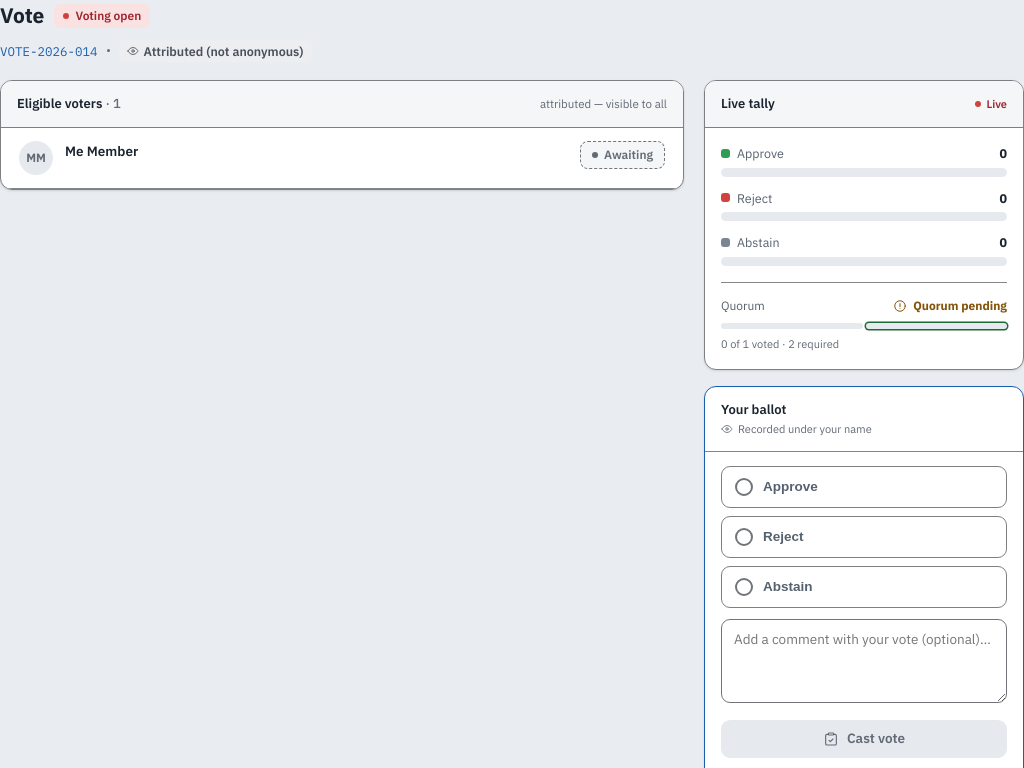
Test case: VotePage (P9b) › open: cancelling the confirm dialog casts nothing
Click the radio button labelled "Approve".
click(790, 486)  # box [721, 466, 1007, 508]
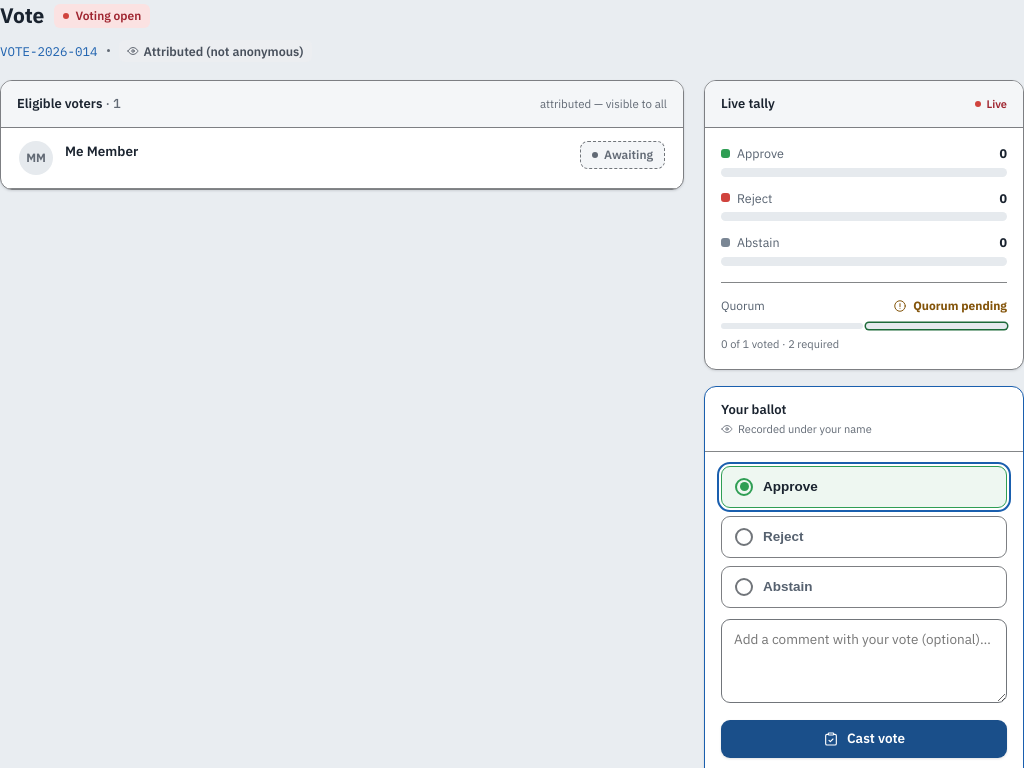
Click the button "Cast vote".
click(864, 738)  # box [721, 720, 1007, 758]
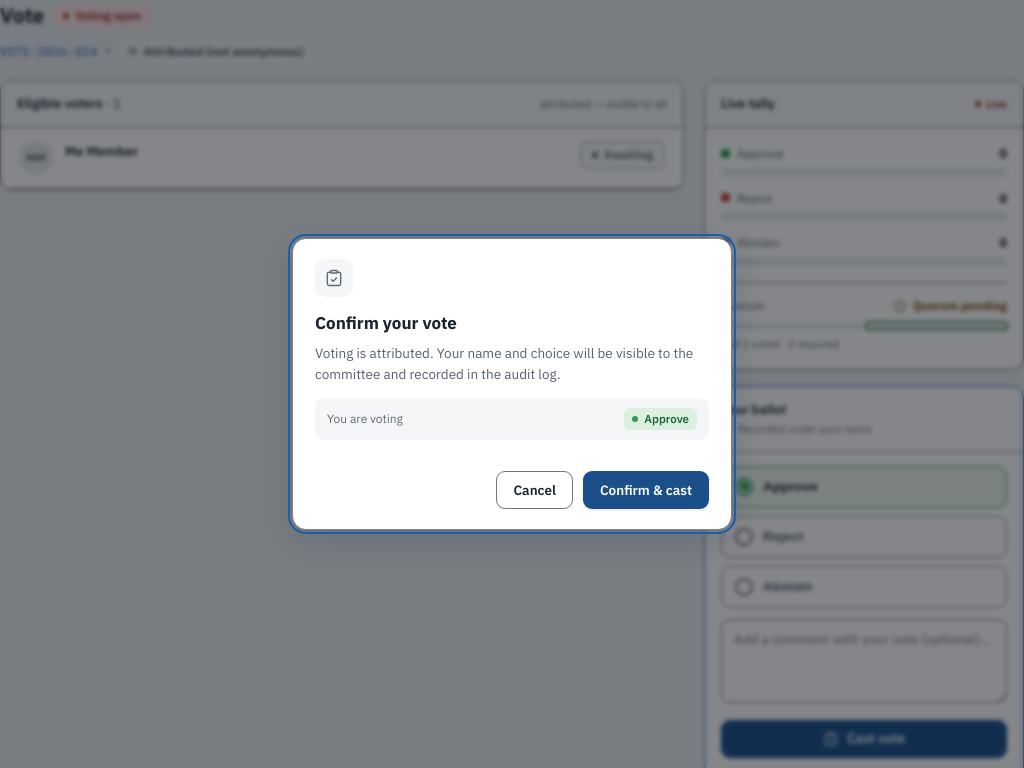
Click the button "Cancel".
click(535, 490)  # box [496, 471, 573, 509]
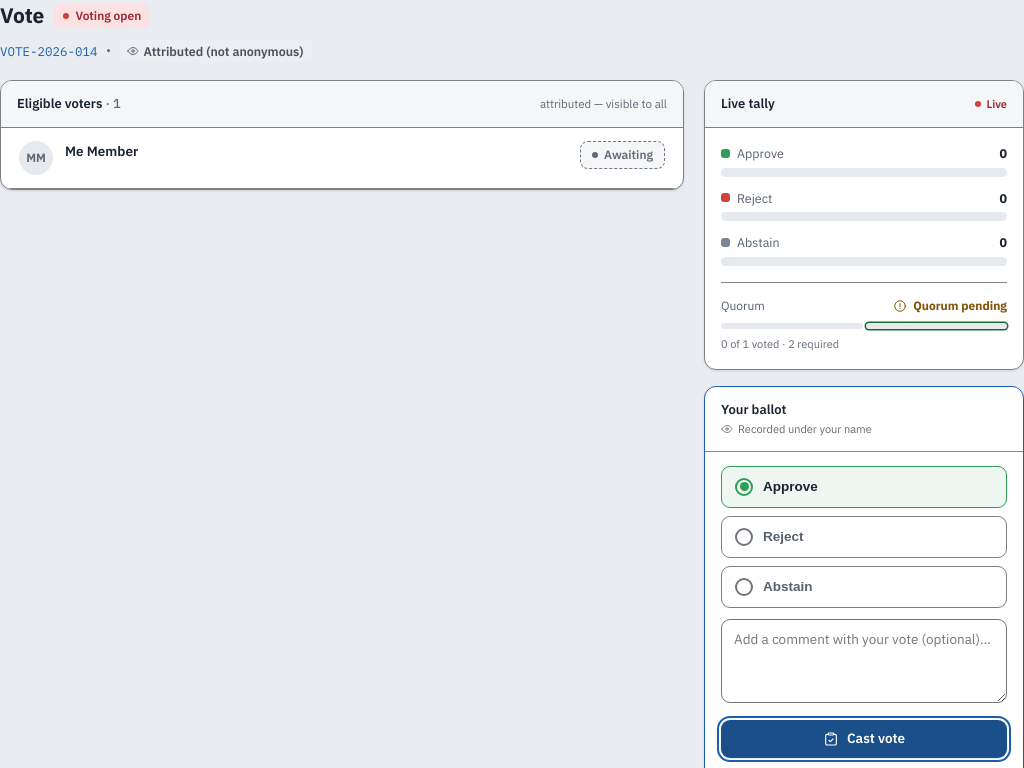
Now the dialog is gone
